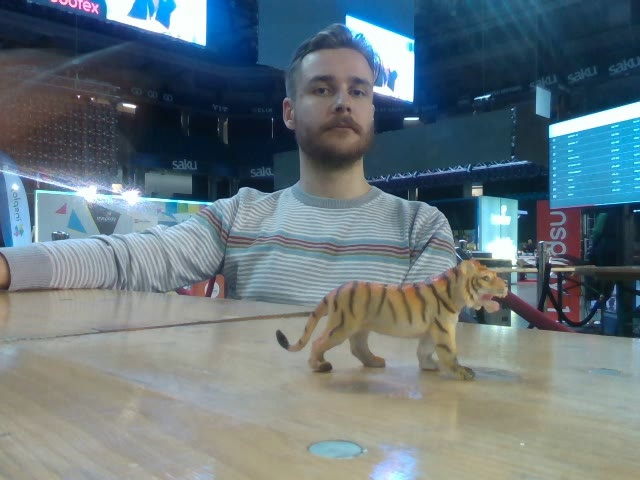toy: (274, 259, 508, 379)
